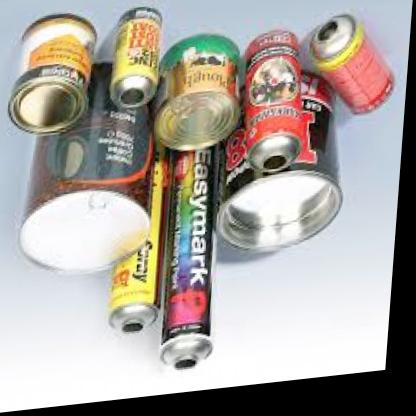Metal: (2, 150, 149, 290), (216, 146, 357, 276), (3, 8, 90, 144), (160, 41, 238, 166)
Organic: (140, 163, 240, 387), (314, 11, 414, 134), (113, 0, 164, 115)
